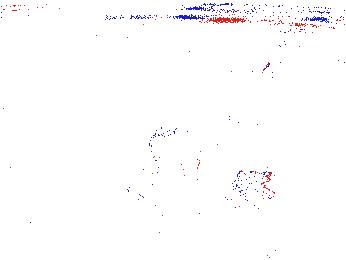flame jellyfish: (196, 168, 276, 227), (122, 156, 189, 226), (140, 120, 202, 183)
